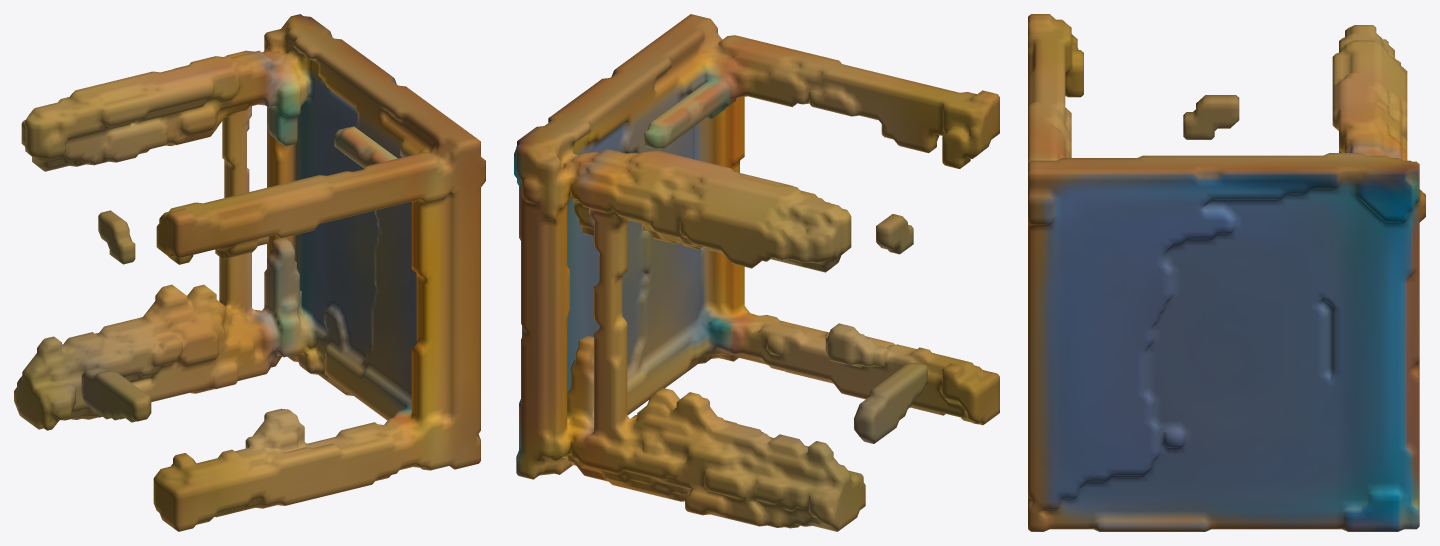
The model's file is A tall, olive-colored, square table with a blue gl.glb.
The picture shows the model from 3 angles, left to right: view 1: azimuth 30°, elevation 25°; view 2: azimuth 150°, elevation 25°; view 3: azimuth 270°, elevation 25°; orthographic projection. The views are drawn at different scales.
Visible parts, largest first — view 1: A tall, olive-colored, square table with a blue gl; view 2: A tall, olive-colored, square table with a blue gl; view 3: A tall, olive-colored, square table with a blue gl.
Part boxes in pixels (x1,y1,x2,y2): A tall, olive-colored, square table with a blue gl: (14,14,485,531); A tall, olive-colored, square table with a blue gl: (514,14,999,531); A tall, olive-colored, square table with a blue gl: (1028,14,1425,531).
Bounding box in the file's own units: 64 × 64 × 64.
